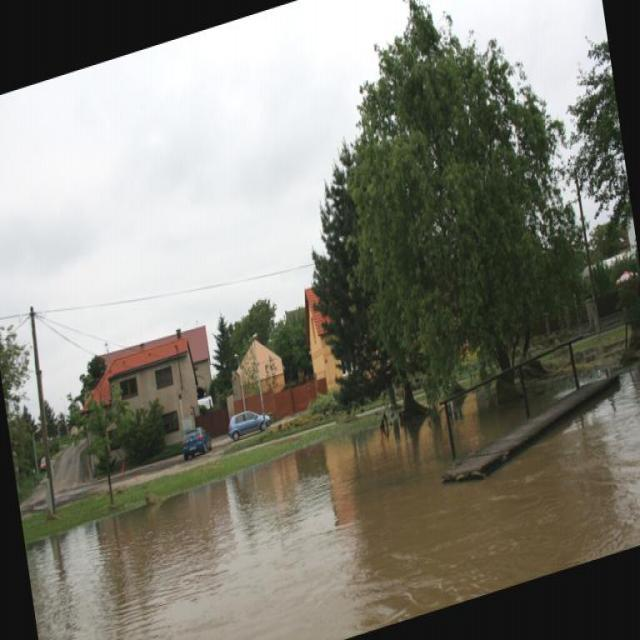flood: (22, 324, 639, 639)
